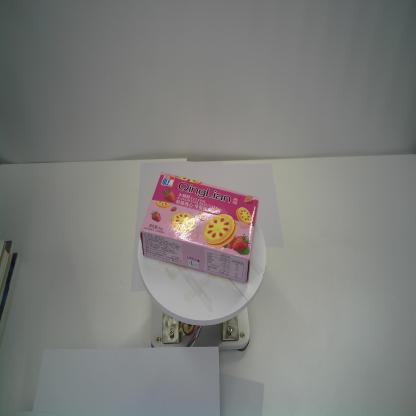Dessert: (138, 171, 259, 284)
